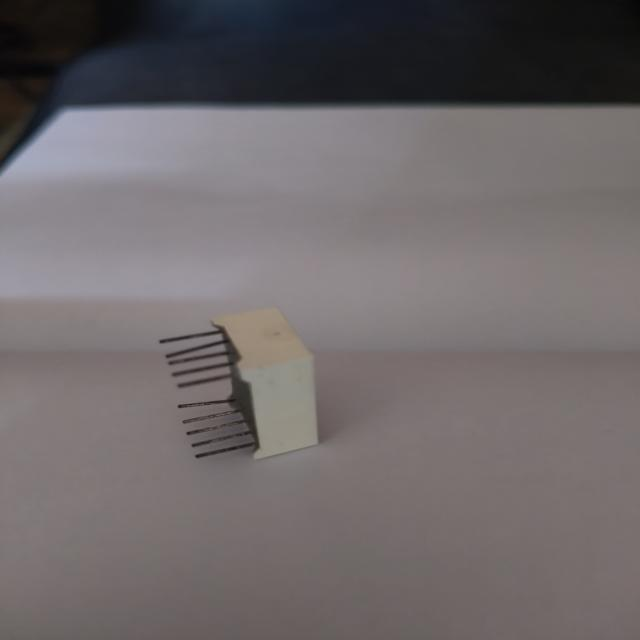sevensegment: (154, 296, 331, 470)
